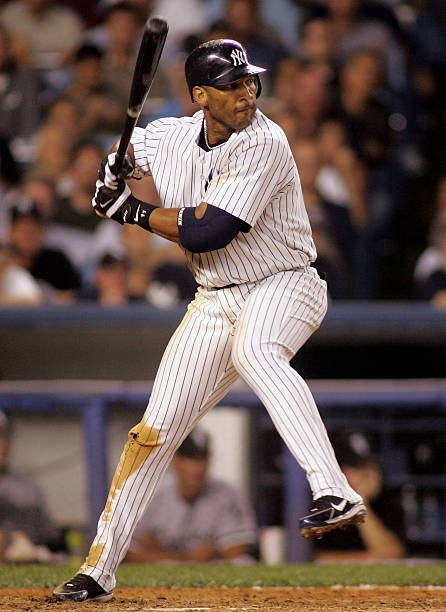bita: (91, 19, 166, 211)
